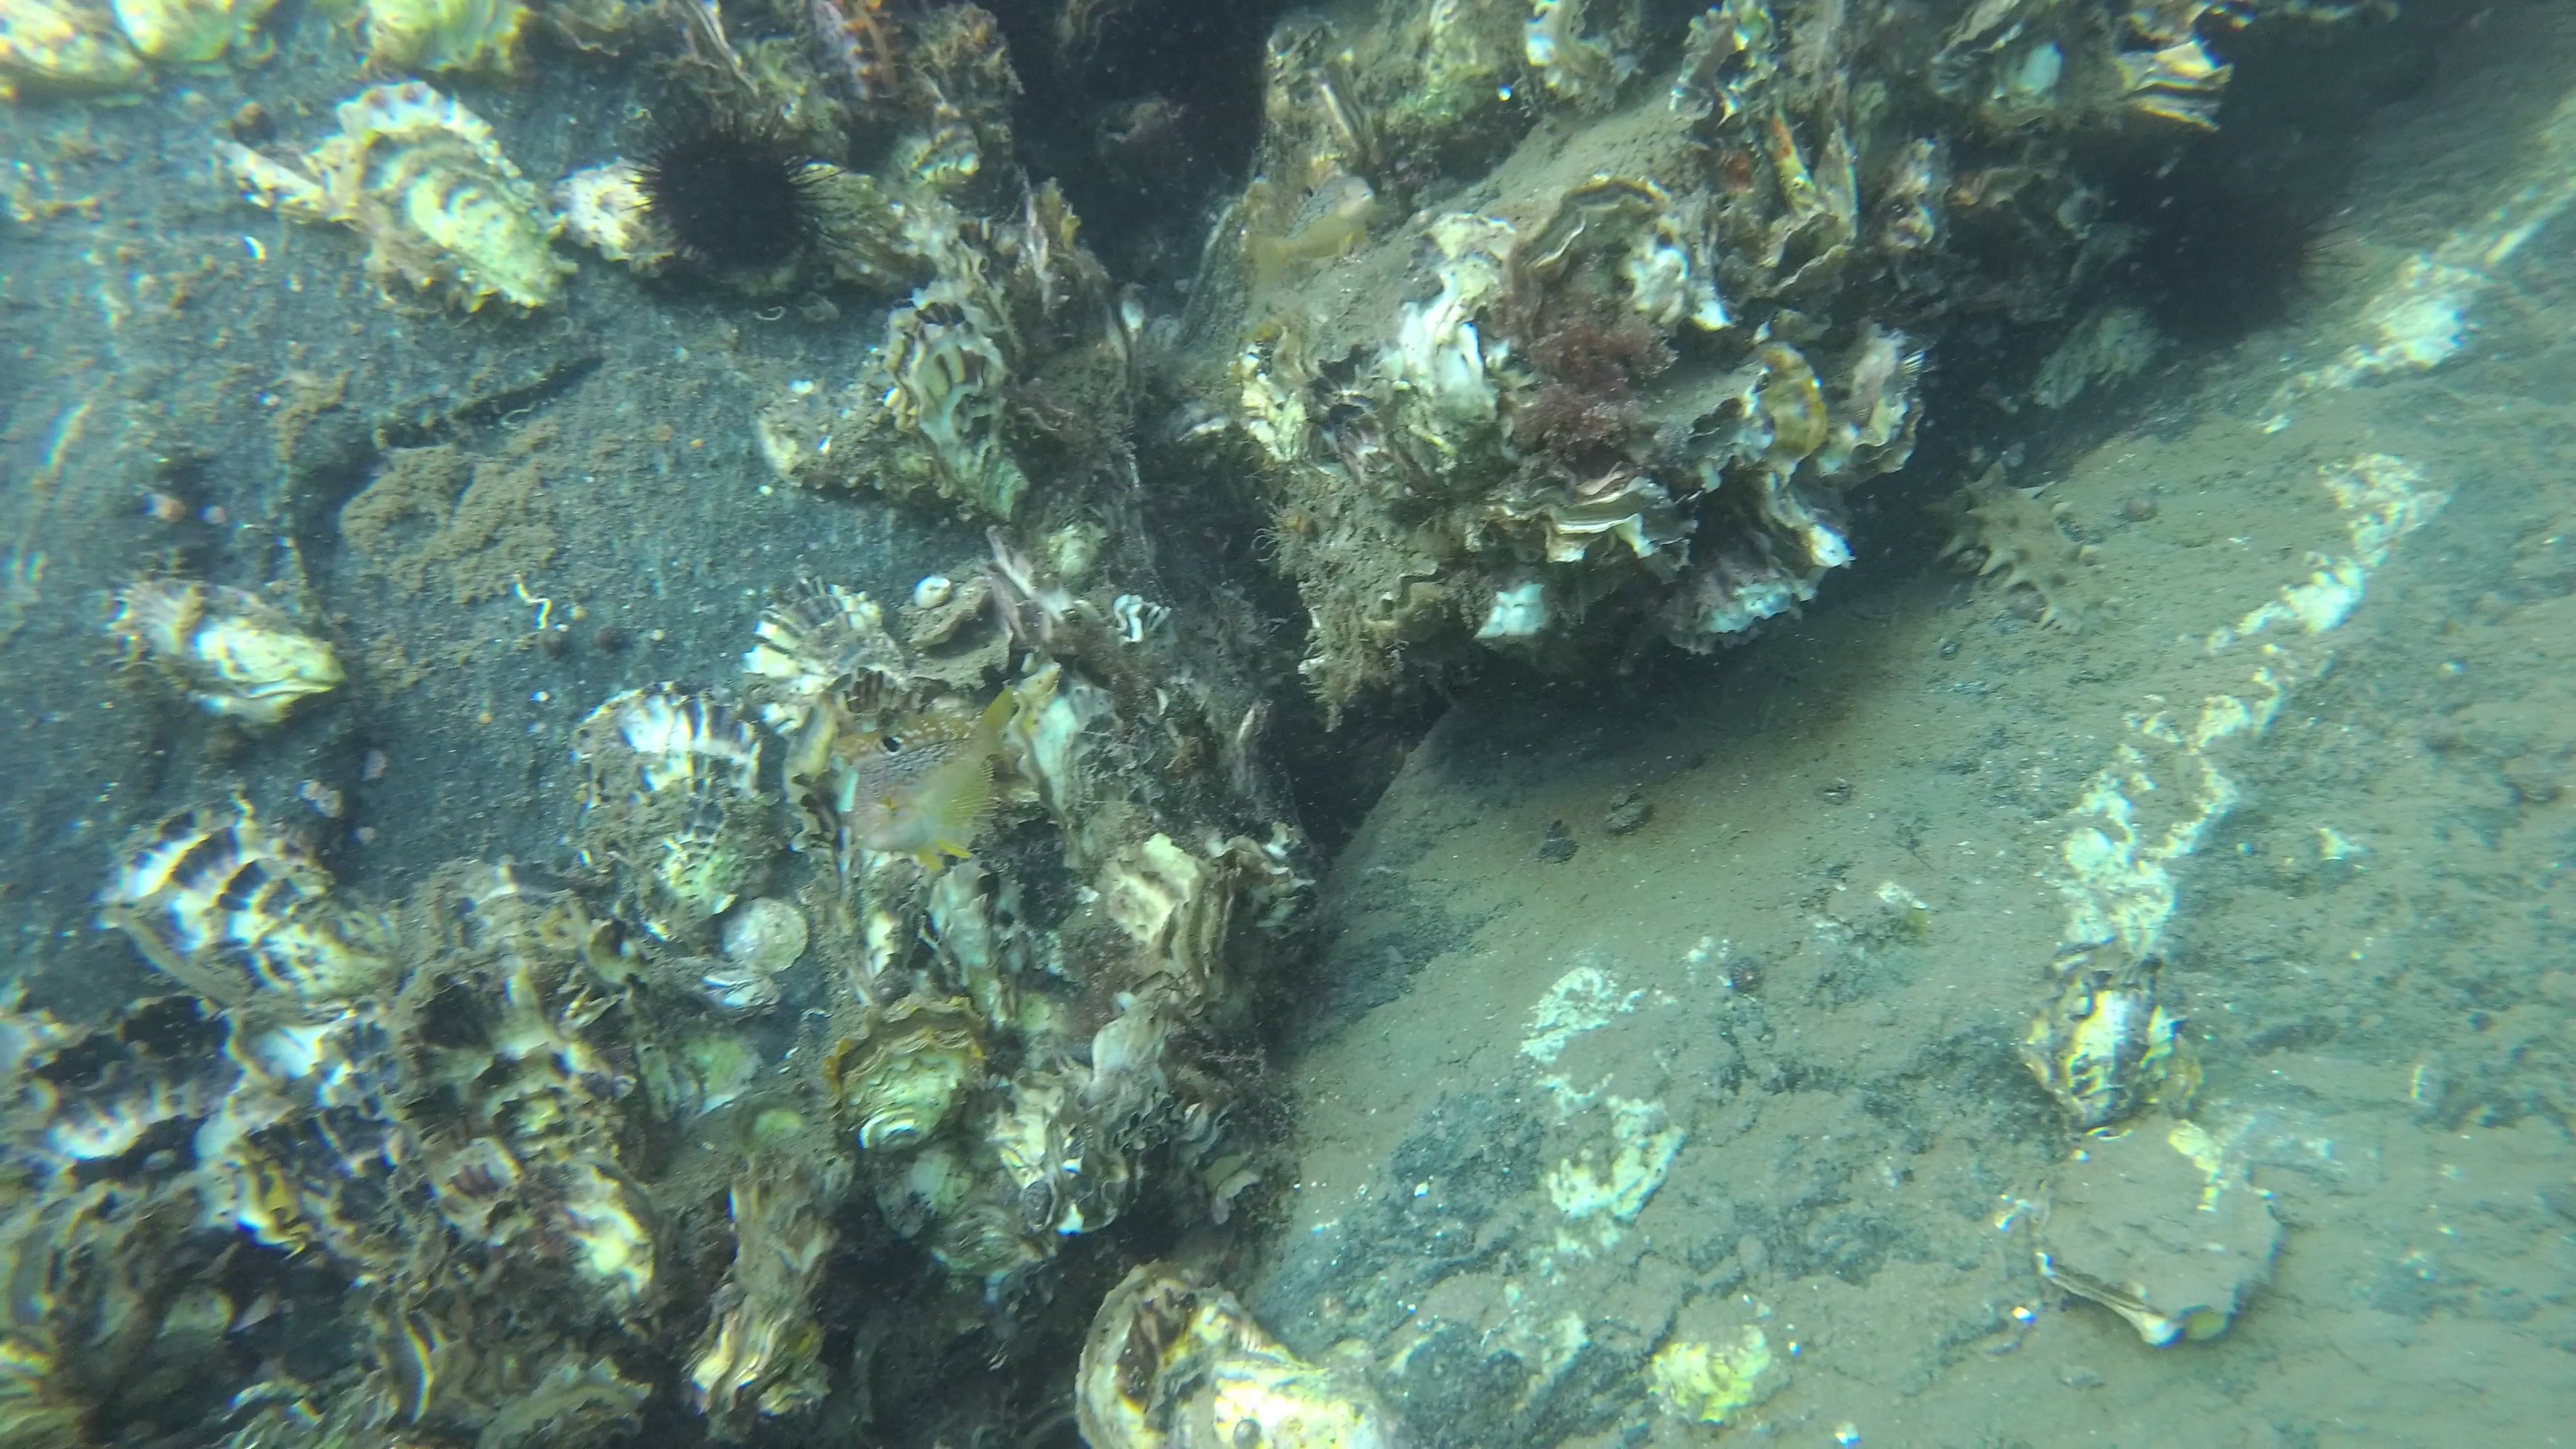echinus: (617, 108, 853, 288), (2118, 191, 2339, 361), (1384, 685, 1453, 750)
holothurian: (1921, 458, 2125, 642)
